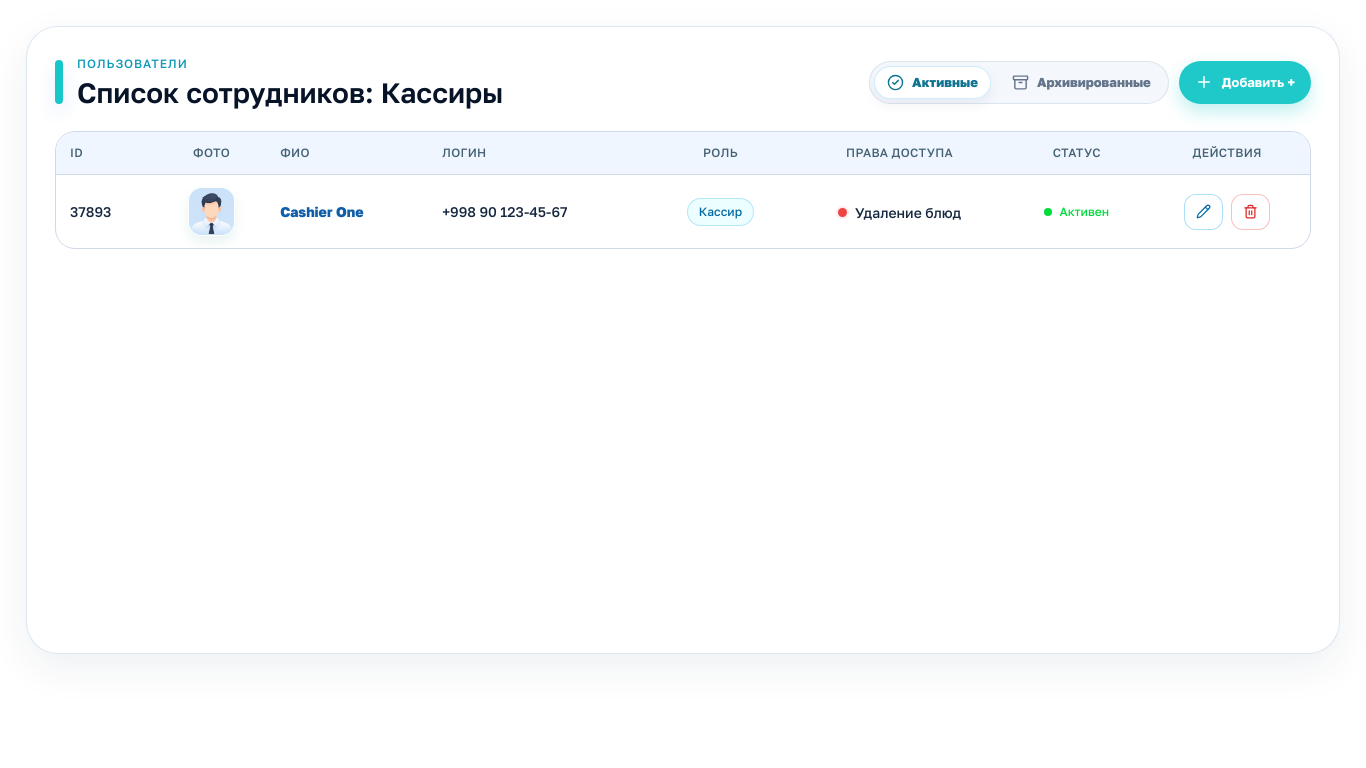
cashier page visual contract (/users/cashier) › edit form uses the same five product elements
Expected: the text "Cashier One" is shown, [266, 174, 428, 248]
Step 1. Click the button titled "Edit" → (1204,212), box [1184, 194, 1223, 230]
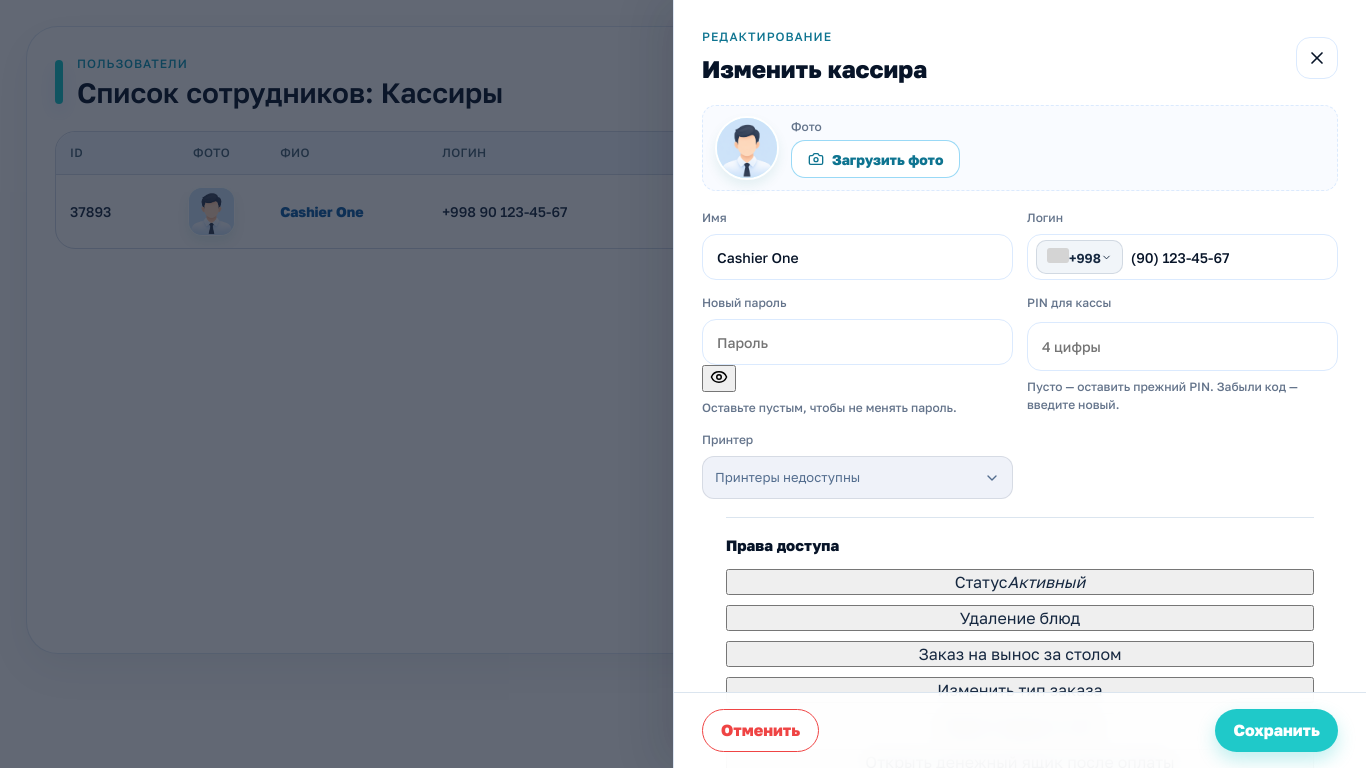
Now the form with class "staff-form--cashier" is shown, box [673, 0, 1365, 767]
Now the text "Загрузить фото" is shown, box [791, 140, 960, 178]
Now the text "Имя" is shown, box [702, 210, 727, 225]
